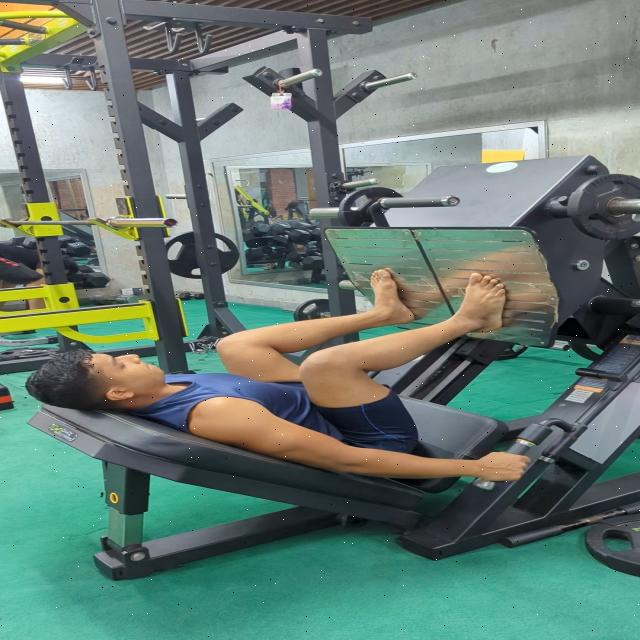Normal_LegPress: (24, 248, 554, 495)
